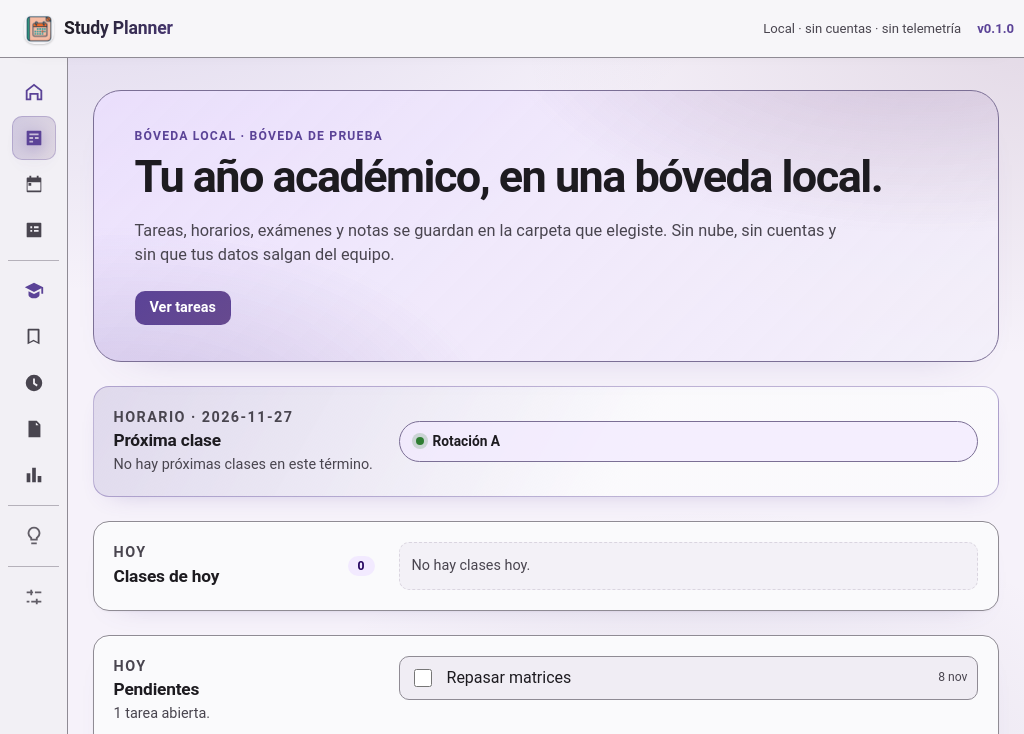
Scenario: App con IPC de Tauri › muestra el promedio ponderado y el descarte del menor
This screenshot has width=1024, height=734.
Click the button named "Notas" at (34, 475), box top-left (12, 453), bottom-right (56, 497)
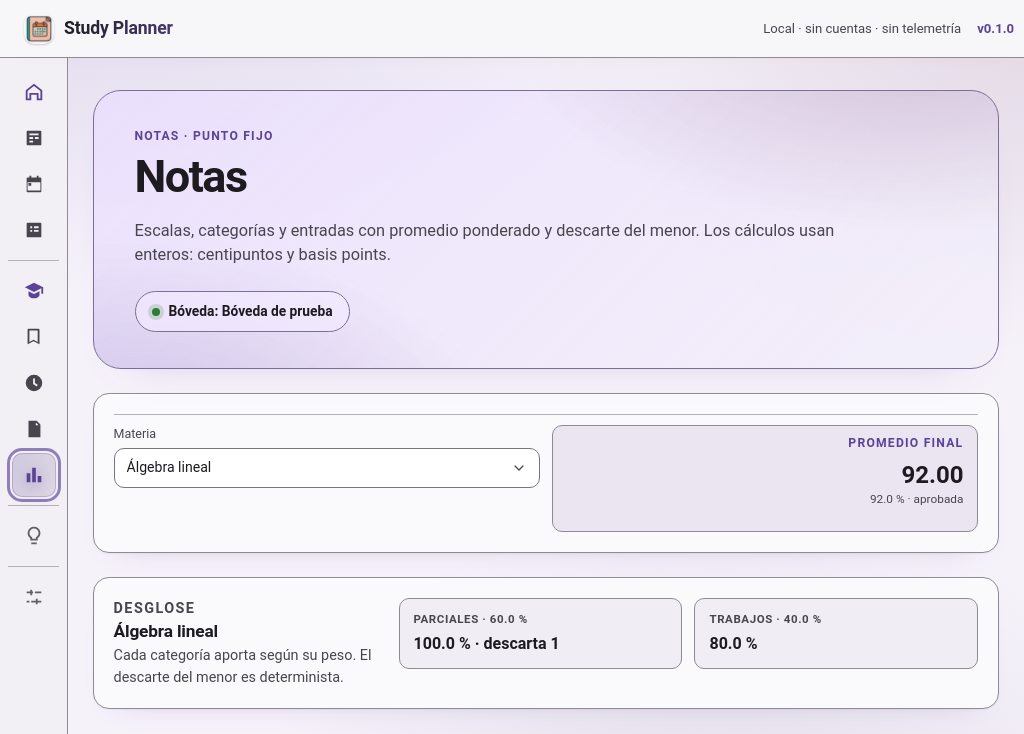
Expected: the heading "Notas" is shown, top-left (134, 150), bottom-right (246, 203)
Expected: the text "92.00" is shown, top-left (901, 462), bottom-right (964, 489)
Expected: the text "92.0 % · aprobada" is shown, top-left (870, 491), bottom-right (963, 509)
